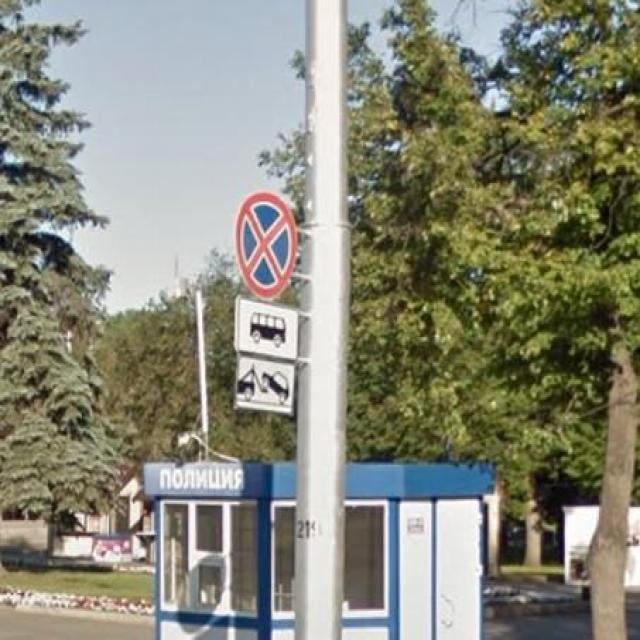Zakaz zatrzymywania sie: (233, 188, 300, 300)
